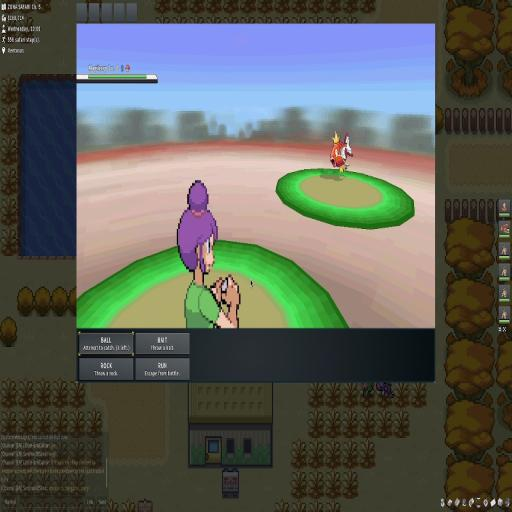FIGHTBAR: (78, 331, 190, 381)
MAGIKARP: (328, 130, 352, 174)
